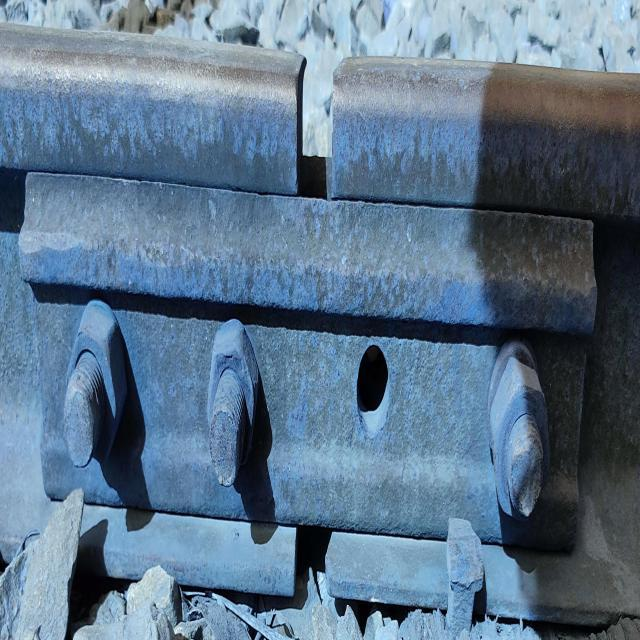Defective Joint: (20, 170, 596, 530)
